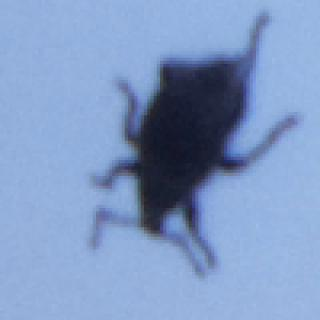bvw: (87, 10, 300, 282)
